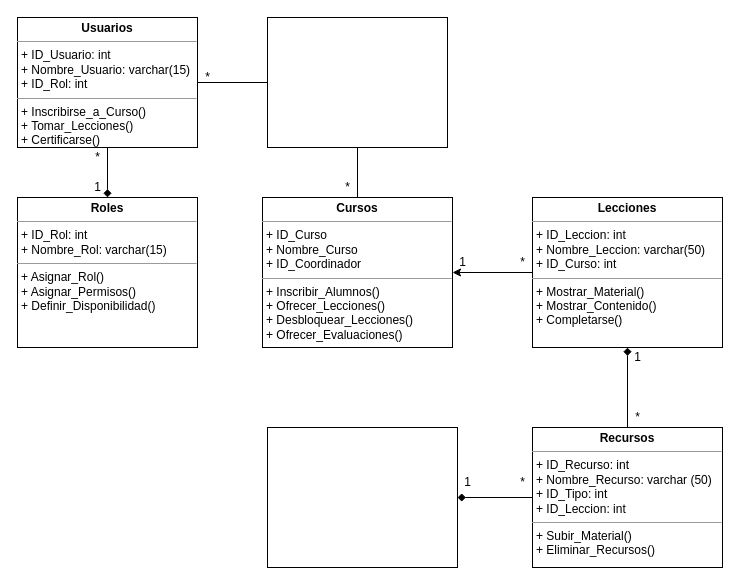
The diagram is 740 pixels wide and 585 high, and some of its shapes have lost their labels. Here are the shapes that lost their labels. From the top down, the centre of each, then its label:
point (357, 82): Usuarios_Cursos + ID_Curso + ID_Usuario + Inscribir_Alumnos()
point (362, 497): Tipo_Recurso + ID_Tipo: int + Nombre_Tipo: varchar(15) + Definir_TipoRecurso()
